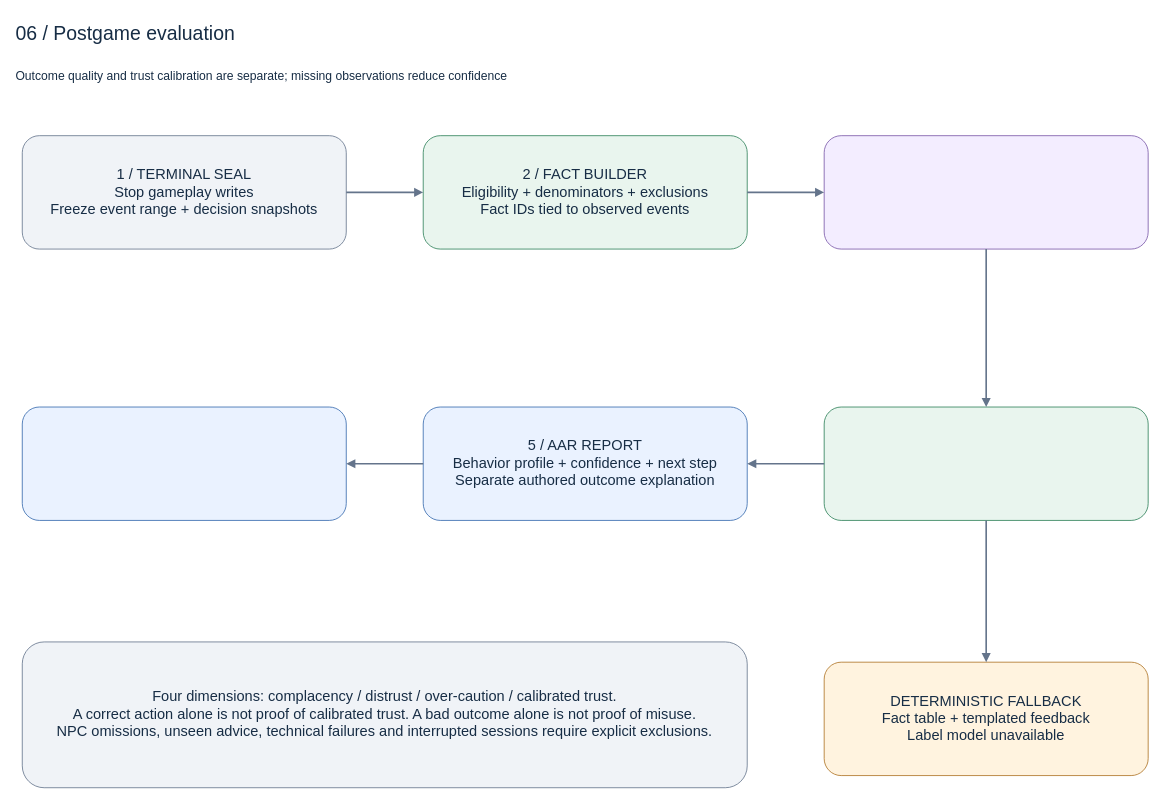
Some shapes in this 1170 by 802 pixel diagram are drawn without their labels. Here are the shapes that lost their labels. From the top down, the box of each, then its label:
(823, 135, 1148, 249): 3 / EVALUATOR MODEL Explain supplied behavior facts Cannot alter measured scores
(21, 406, 346, 520): REPLAY What player saw / what AI saw What was chosen / what happened
(823, 406, 1148, 520): 4 / OUTPUT GUARD References exist; numbers match No invented motives / diagnoses
